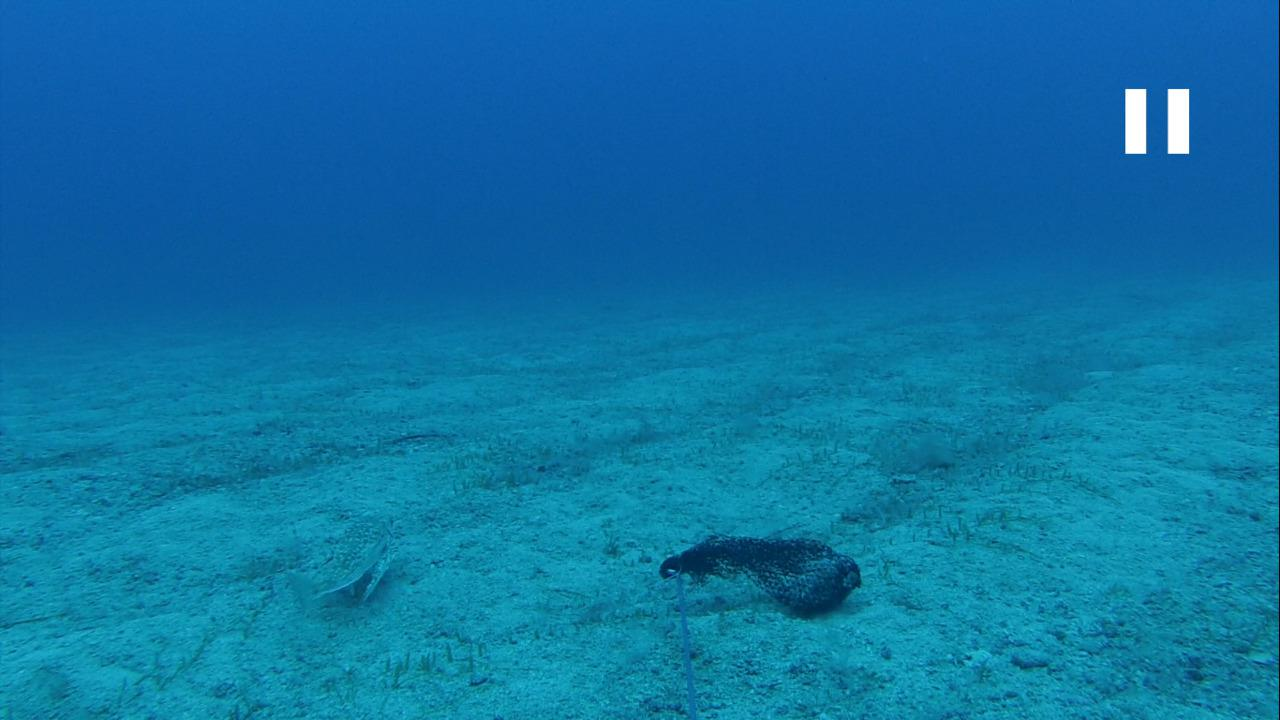dactylopterus: (275, 504, 411, 634)
